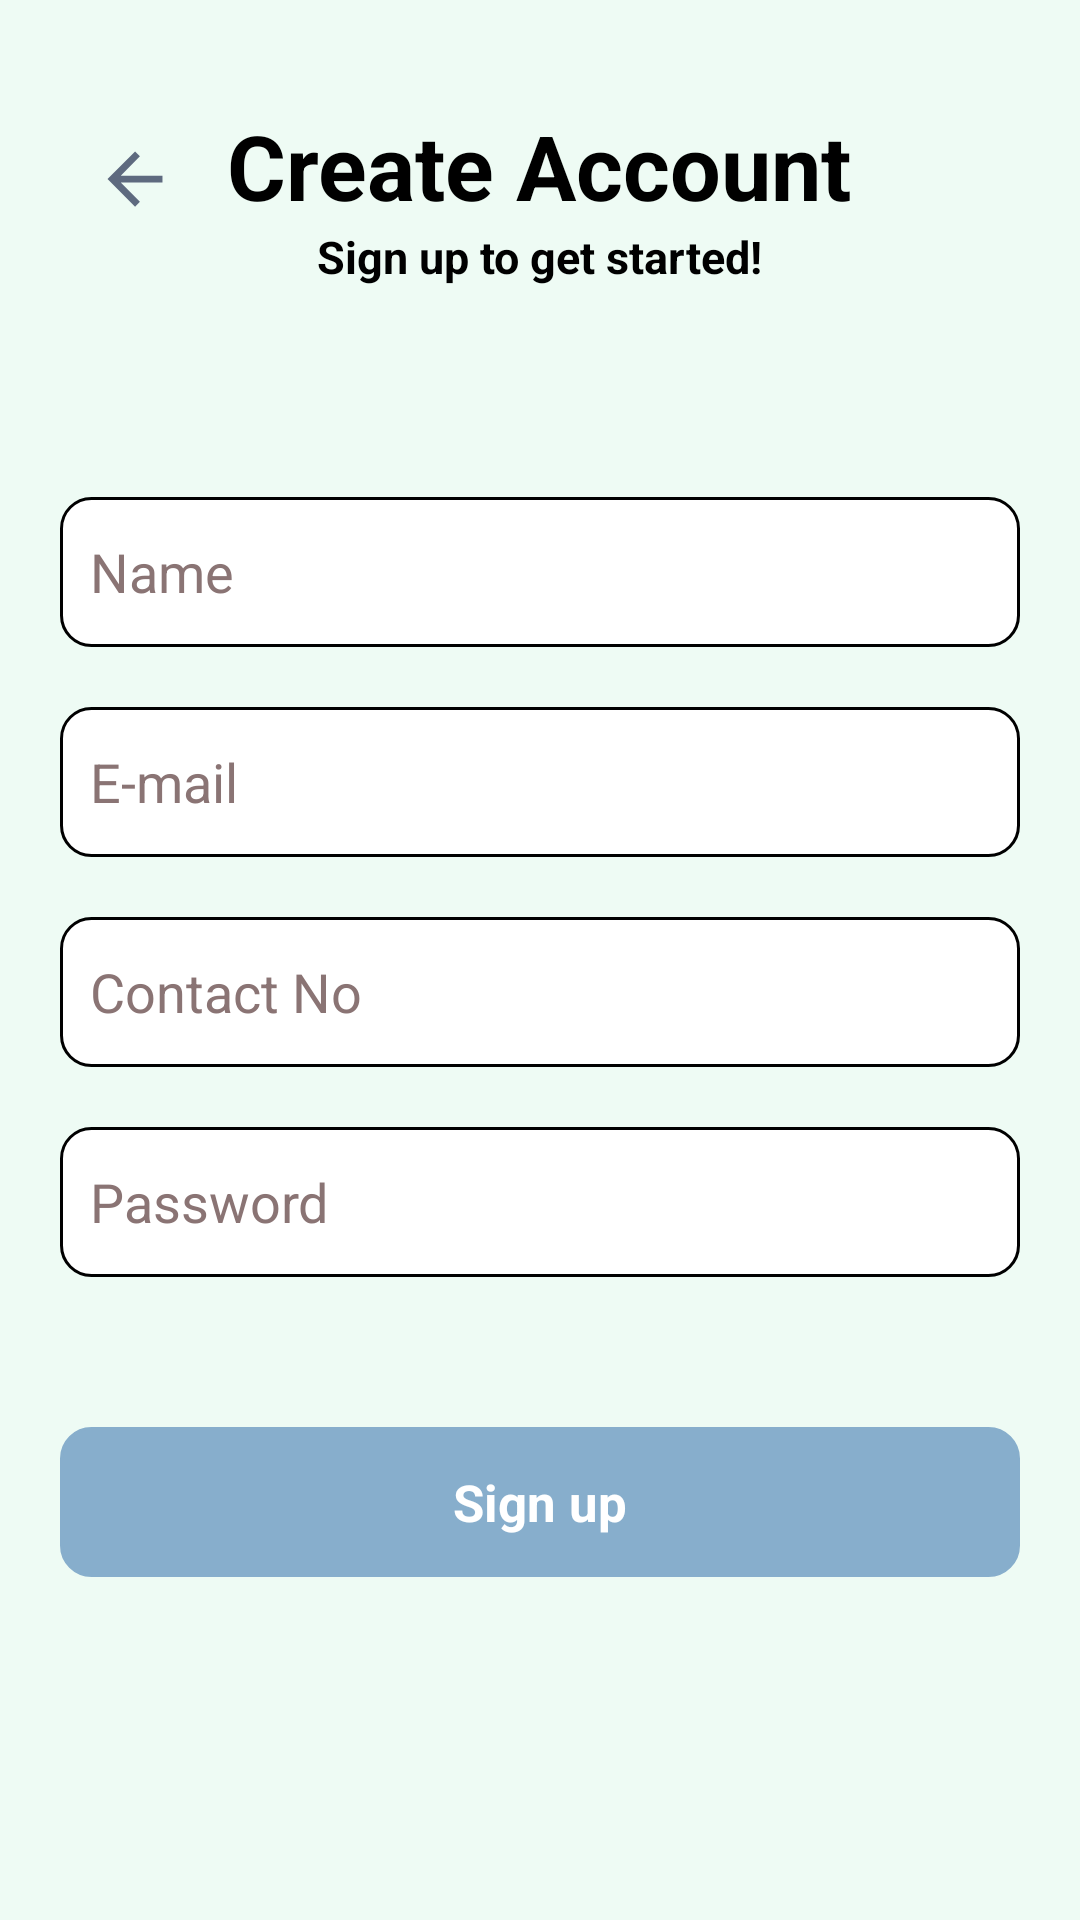

Icons on this 1080w x 1920h Android screen, each with its box as (x1, y1, x2, y2):
back: (108, 151, 163, 207)
